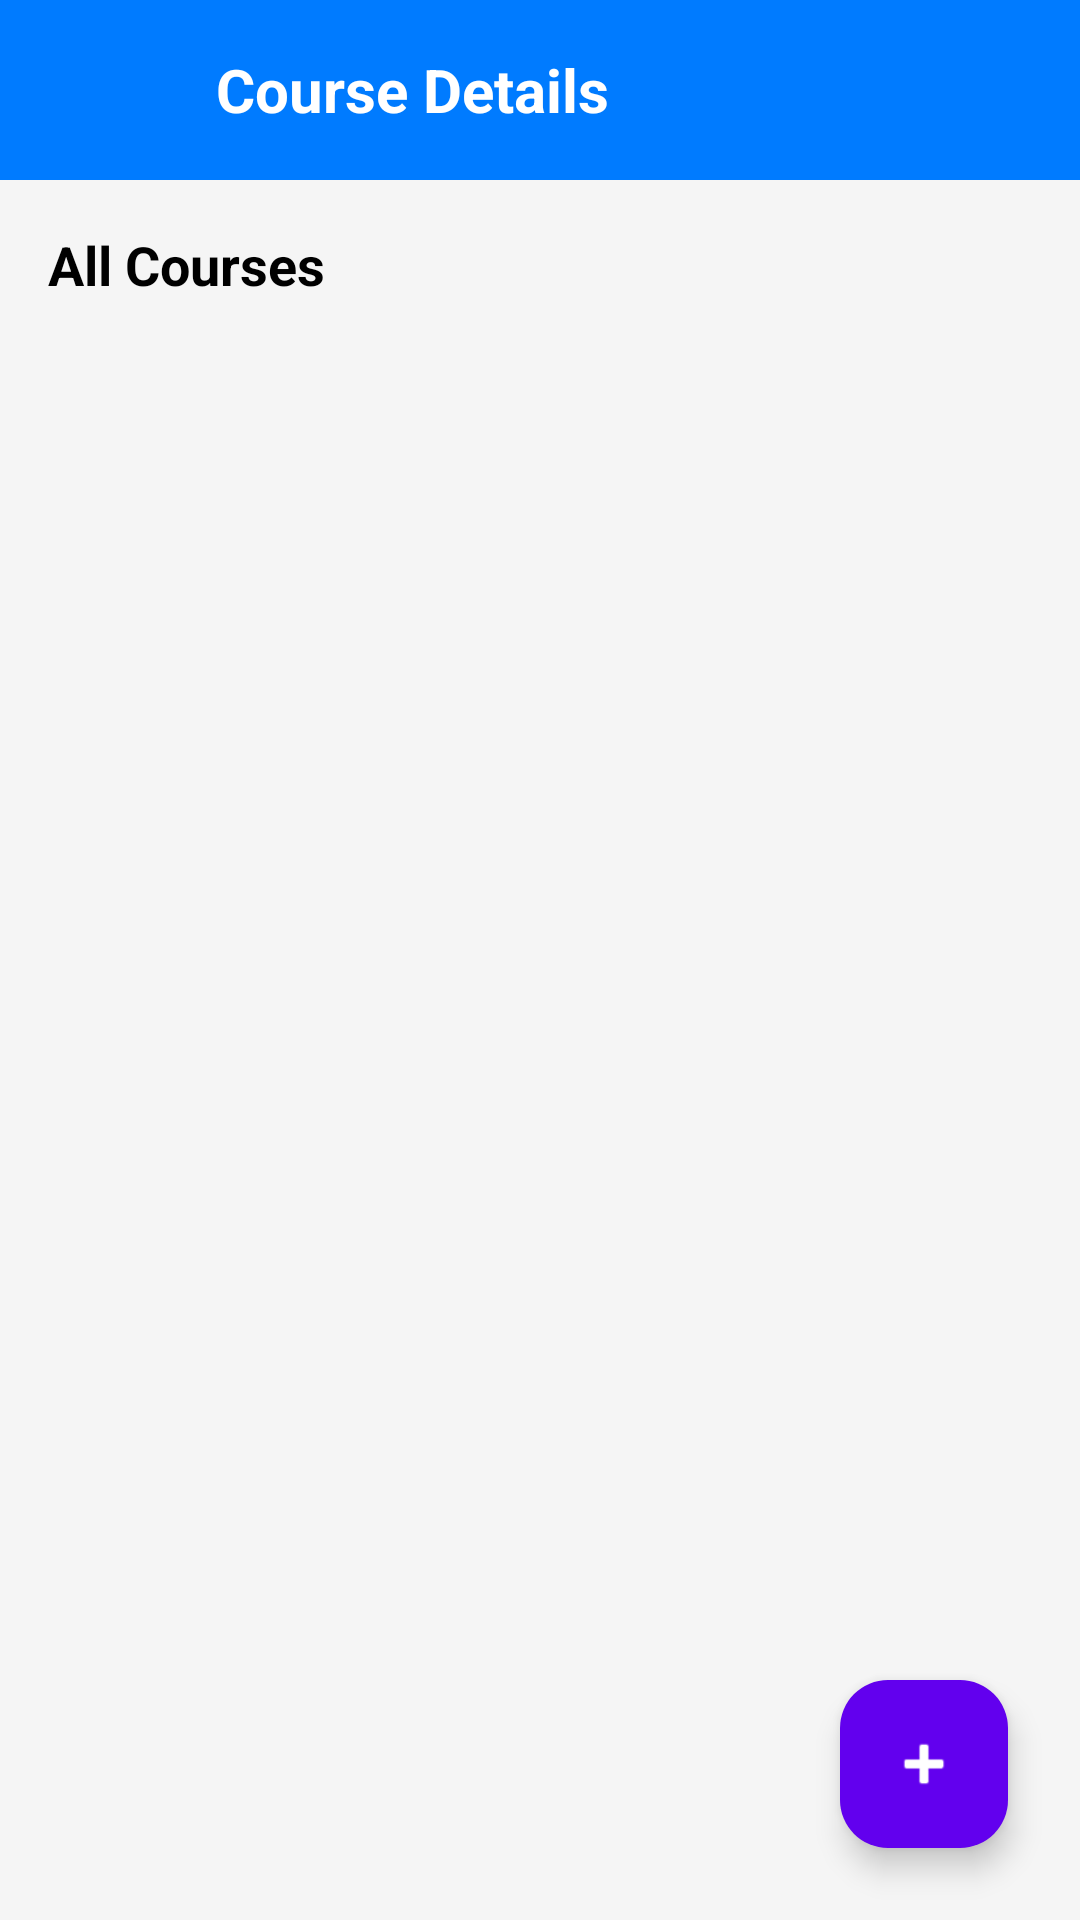

Icon bounding boxes for this 1080w x 1920h phone screenshot, format box=[x1, y1, x2, y2]:
Add Course: box=[840, 1680, 1008, 1848]
